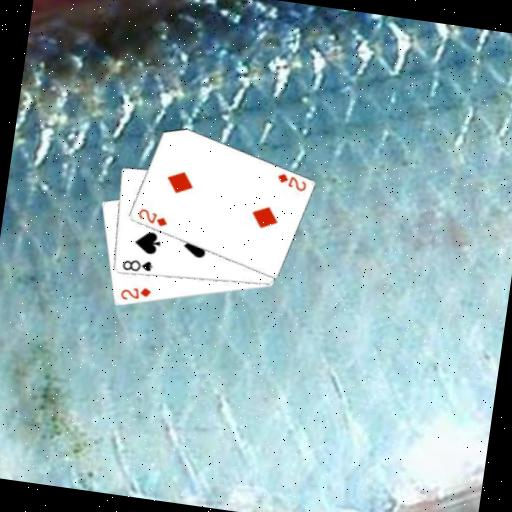2D: (134, 205, 170, 230), (273, 170, 309, 194), (117, 282, 153, 305)
8S: (118, 255, 155, 275)
